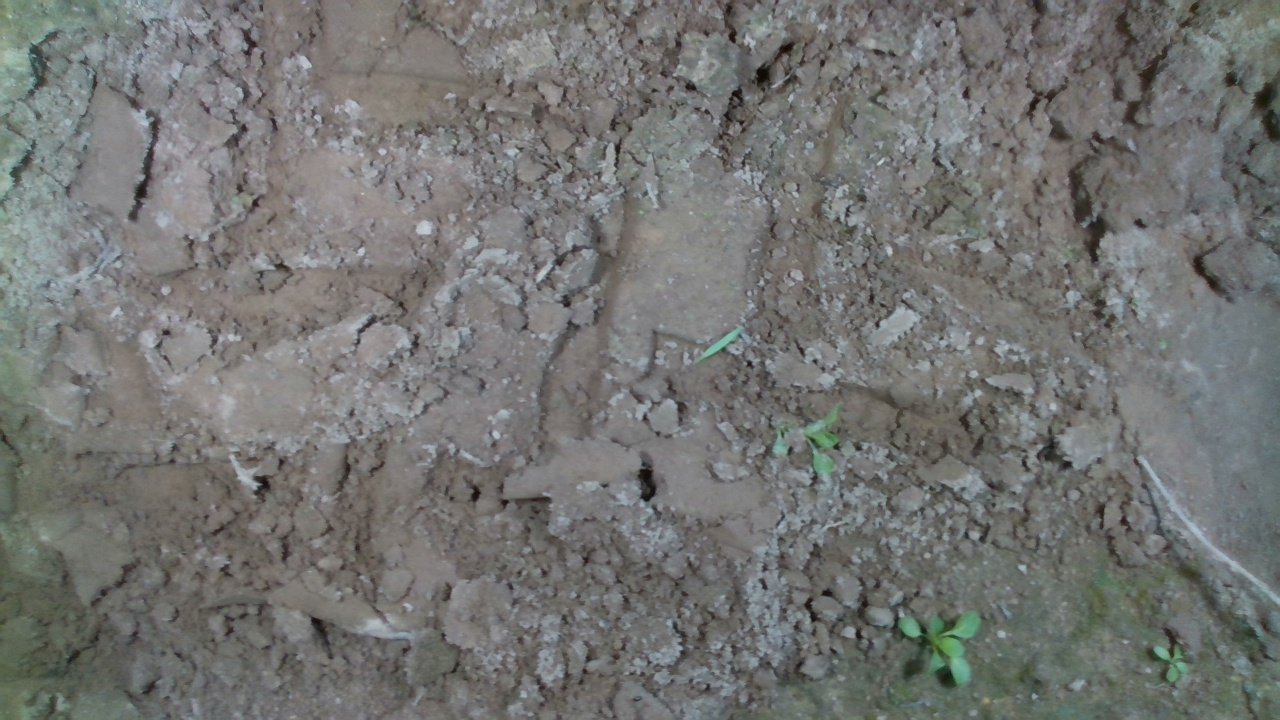weed: (1152, 639, 1190, 688)
